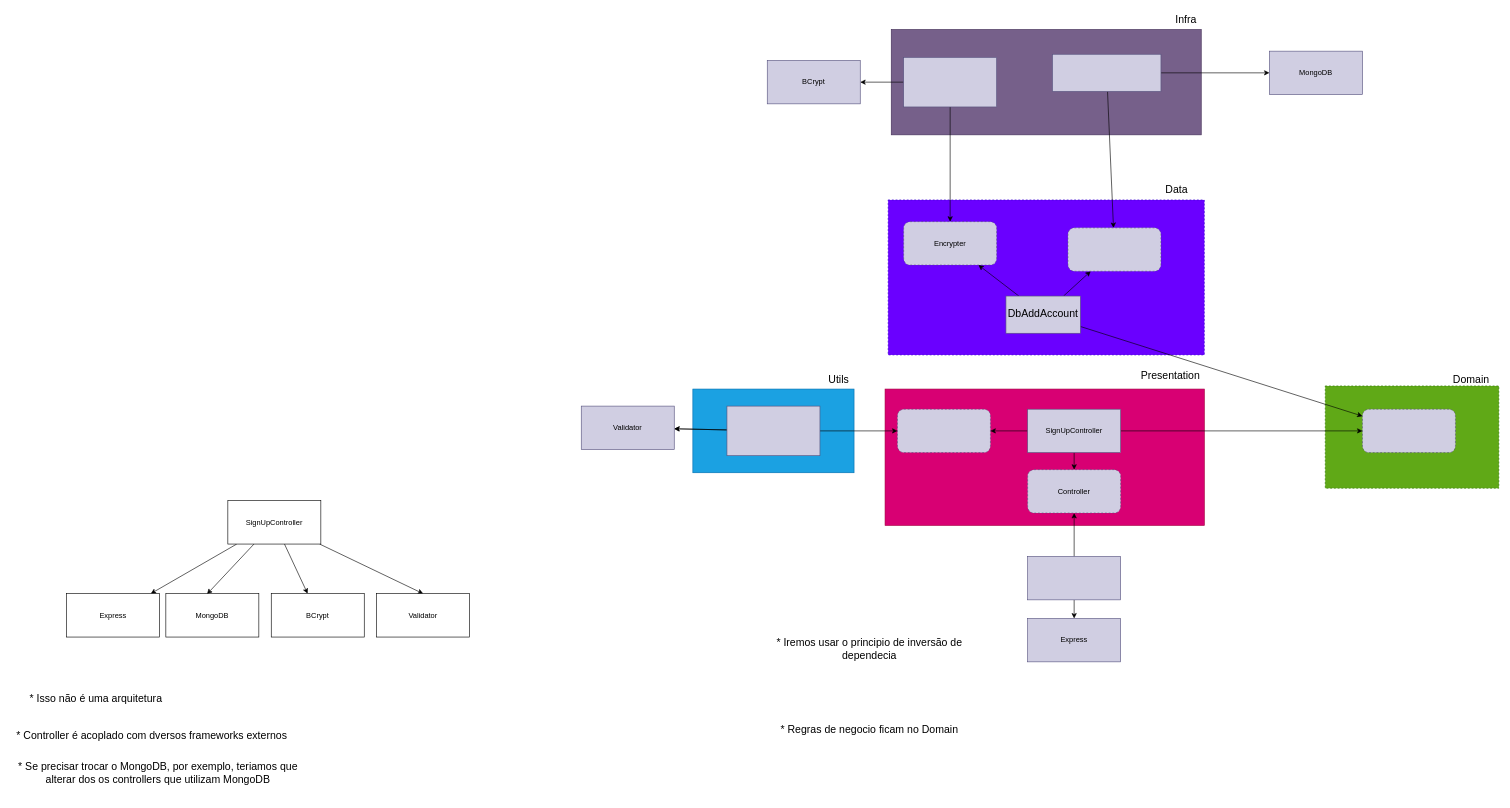
Some shapes in this 1510 by 808 pixel diagram are drawn without their labels. The shapes that lost their labels are listed below. From the top down, each one's box as (x1, y1, x2, y2) in pixels, then its label:
(903, 57, 997, 107): BcryptAdapter
(1052, 54, 1161, 91): AddUserMongoRepo
(1067, 227, 1161, 271): AddUserRepo
(726, 405, 820, 456): EmailValidatorAdapter
(897, 409, 990, 453): EmailValidator
(1362, 409, 1455, 453): AddAcount
(1027, 556, 1121, 600): ExpressRouteAdapter
